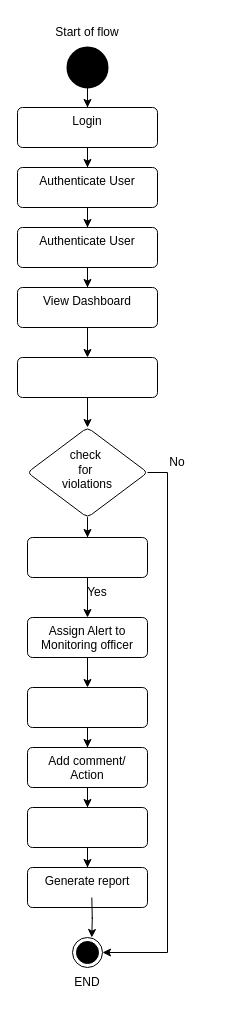
The diagram is 225 pixels wide and 1014 high, and some of its shapes have lost their labels. Each missing label, with the centre of its shape:
"Generate Alert" goes at (87,557).
"Officer review Alert" goes at (87,707).
"Sync data from KubakaSystem API" goes at (87,377).
"update Alert status" goes at (87,827).
